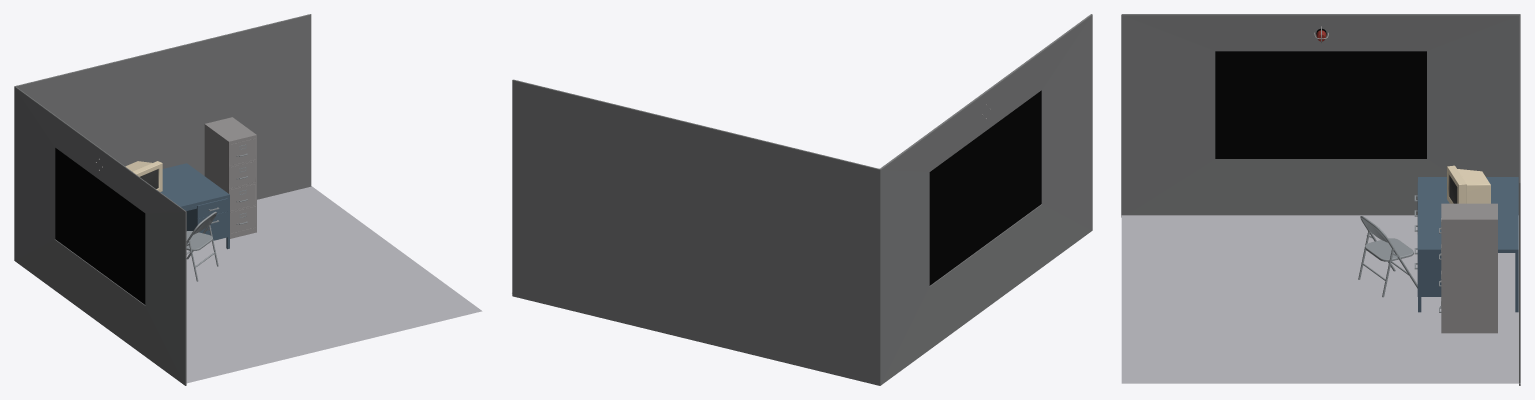
File: Scene2_Sketchfab2.fbx
3 renders of one model, left to right at view 1: azimuth 30°, elevation 25°; view 2: azimuth 150°, elevation 25°; view 3: azimuth 270°, elevation 25°, orthographic. The views are drawn at different scales.
Parts seen in each view (by area): view 1: pPlane1, pCube2, pCube1, FileCabnetAsset:pCube14, TableAsset:pCube15, ChairAsset:pCylinder9, ComputerAsset1:pCylinder2; view 2: pCube1, pCube2; view 3: pCube2, pPlane1, FileCabnetAsset:pCube14, TableAsset:pCube15, ChairAsset:pCylinder9, ComputerAsset1:pCylinder2, pCube1.
Part boxes in pixels (bbox=[...]): pPlane1: bbox=[186, 186, 482, 383]; pCube2: bbox=[14, 86, 186, 385]; pCube1: bbox=[15, 14, 311, 199]; FileCabnetAsset:pCube14: bbox=[204, 117, 256, 238]; TableAsset:pCube15: bbox=[160, 163, 229, 249]; ChairAsset:pCylinder9: bbox=[186, 211, 218, 281]; ComputerAsset1:pCylinder2: bbox=[125, 161, 162, 191]; pCube1: bbox=[512, 79, 879, 385]; pCube2: bbox=[879, 14, 1092, 385]; pCube2: bbox=[1121, 14, 1519, 217]; pPlane1: bbox=[1121, 215, 1520, 383]; FileCabnetAsset:pCube14: bbox=[1439, 203, 1497, 333]; TableAsset:pCube15: bbox=[1414, 177, 1518, 312]; ChairAsset:pCylinder9: bbox=[1358, 216, 1417, 297]; ComputerAsset1:pCylinder2: bbox=[1447, 165, 1490, 203]; pCube1: bbox=[1519, 14, 1520, 385].
Bounding box in the file's own units: 8.03 × 4.5 × 8.01.
1 material, 1 textured.
